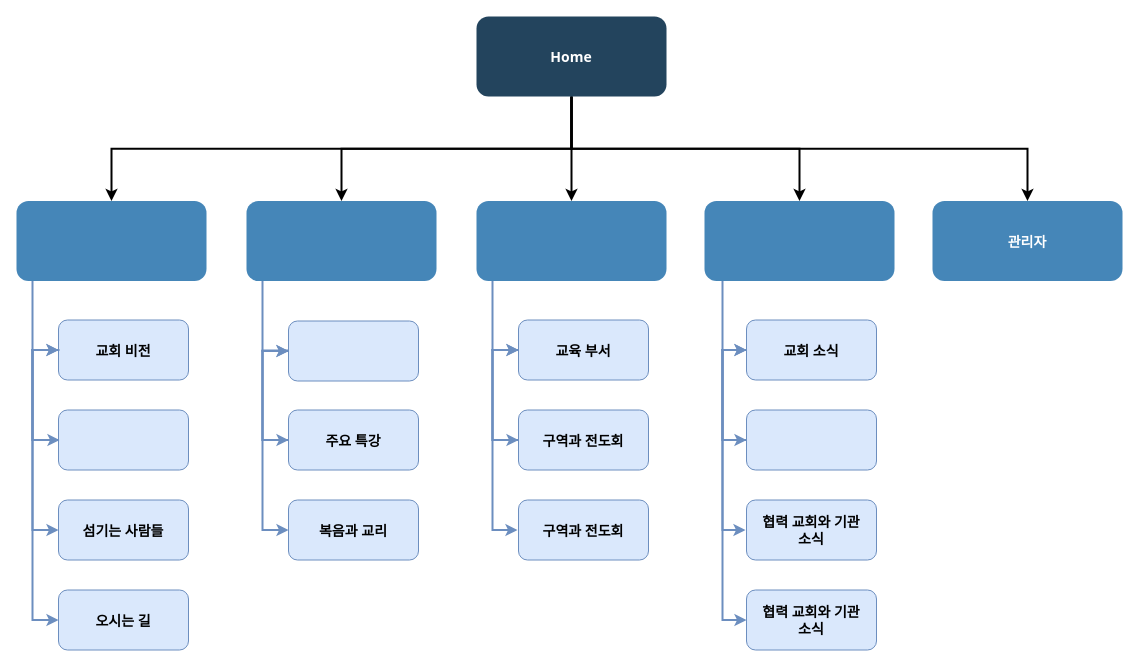
Some shapes in this 1139 by 666 pixel diagram are drawn without their labels. Each missing label, with the box of its shape:
교회 소개: (16, 200, 206, 280)
돌봄과 선교: (704, 200, 894, 280)
모임 안내: (58, 409, 188, 470)
양육과 교육: (476, 200, 666, 280)
예배 설교: (288, 320, 418, 381)
예배와 말씀: (246, 200, 436, 280)
주보: (746, 409, 876, 470)
